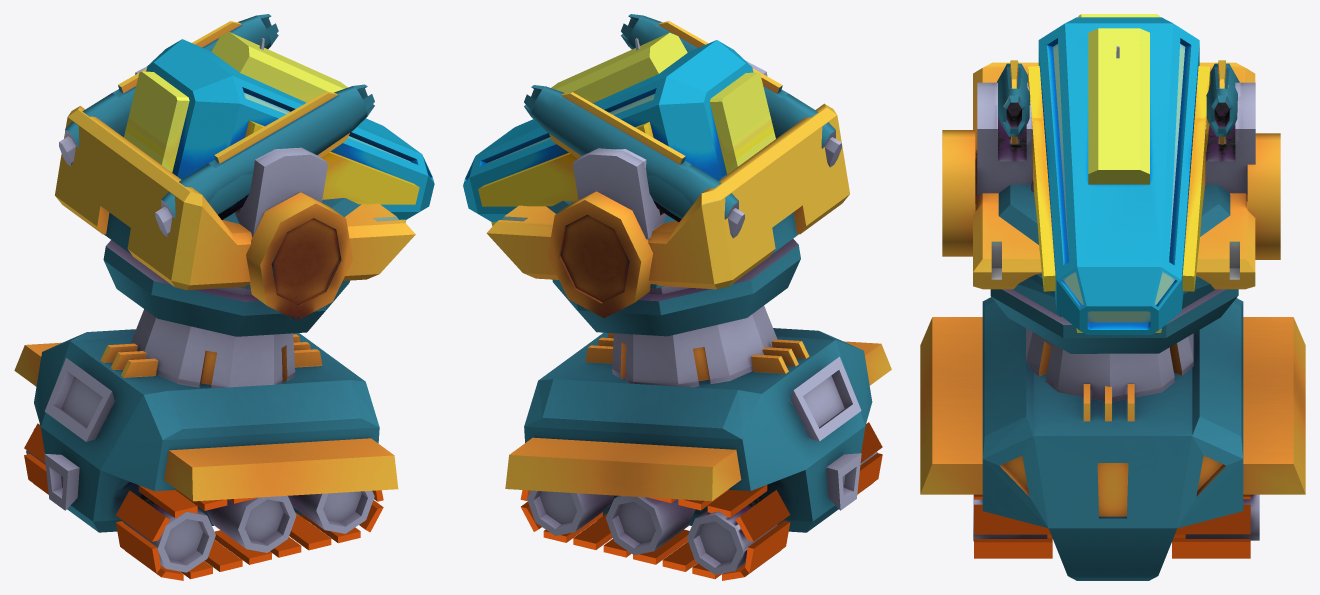
The model's file is Player_moving_upgrade18.obj.
3 views of the same model, side by side, from view 1: azimuth 30°, elevation 25°; view 2: azimuth 150°, elevation 25°; view 3: azimuth 270°, elevation 25° (orthographic). The views are drawn at different scales.
Visible parts, largest first — view 1: Object015, Object014, Box009, Box017, Box016; view 2: Object015, Object014, Box009, Box016, Box017; view 3: Object015, Object014, Box017, Box016, Box009.
Boxes of the visible parts, x1,y1,x2,y2 form: Object015: (14,32,434,532); Object014: (59,14,374,236); Box009: (26,428,374,572); Box017: (116,485,383,580); Box016: (24,423,48,494); Object015: (463,32,891,532); Object014: (524,14,841,238); Box009: (527,451,877,574); Box016: (520,485,790,580); Box017: (857,422,882,494); Object015: (920,14,1305,580); Object014: (996,60,1239,144); Box017: (974,494,1052,558); Box016: (1172,494,1250,558); Box009: (973,494,1259,541).
Size of the model in its own units: 70.38 by 88.9 by 59.78.
5 materials, 3 textured.
